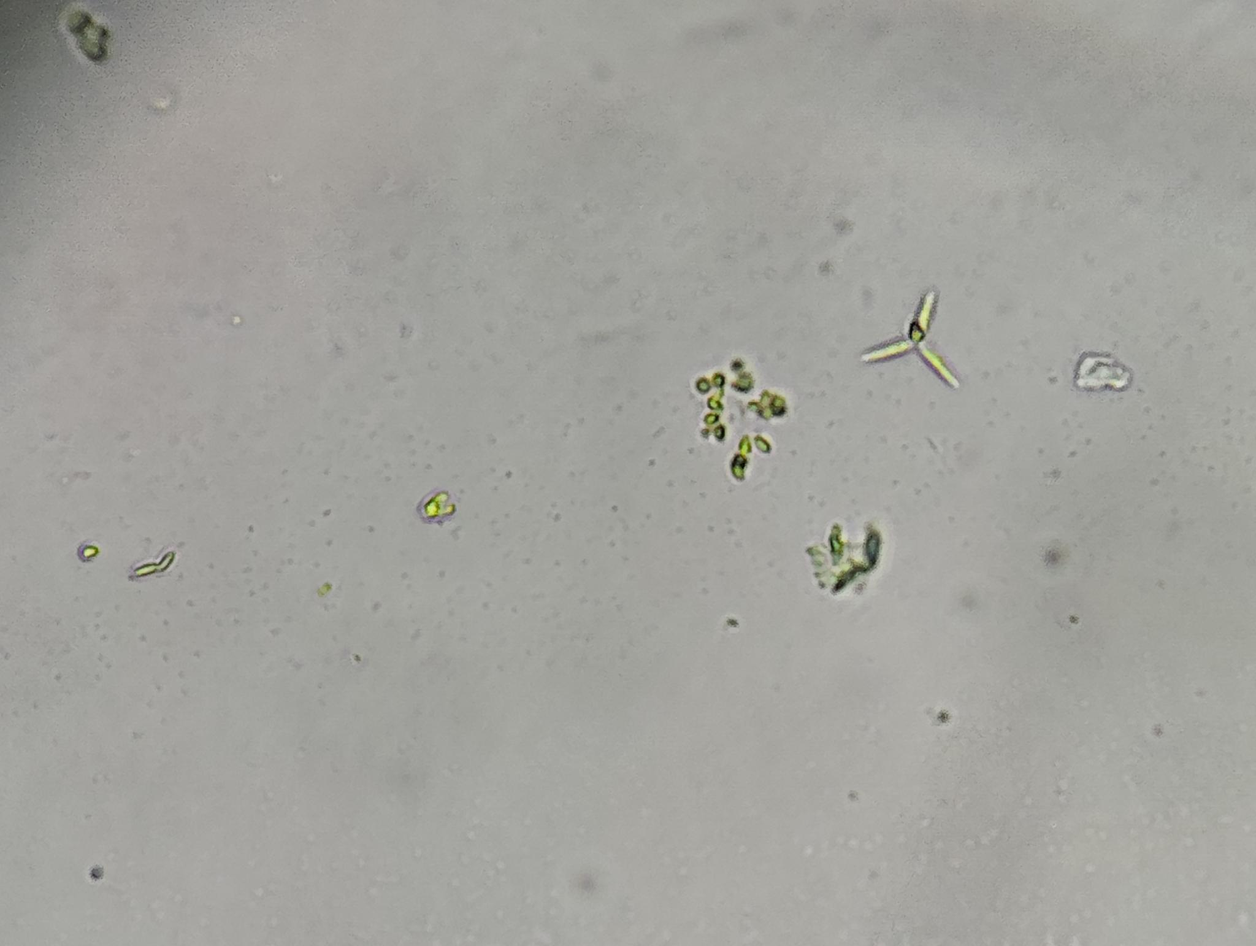Scenedesmus: (850, 273, 972, 399)
